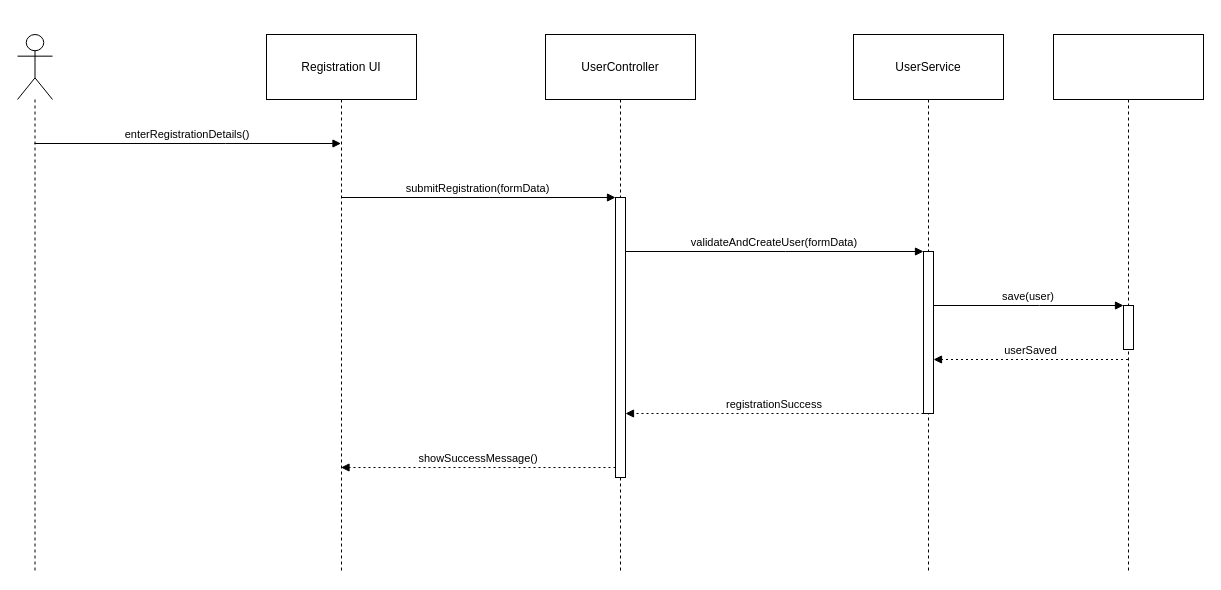
Some shapes in this 1221 by 590 pixel diagram are drawn without their labels. The box of each missing label's shape, as (x1, y1, x2, y2) in pixels:
User: (16, 34, 52, 572)
UserRepository: (1052, 34, 1204, 572)
